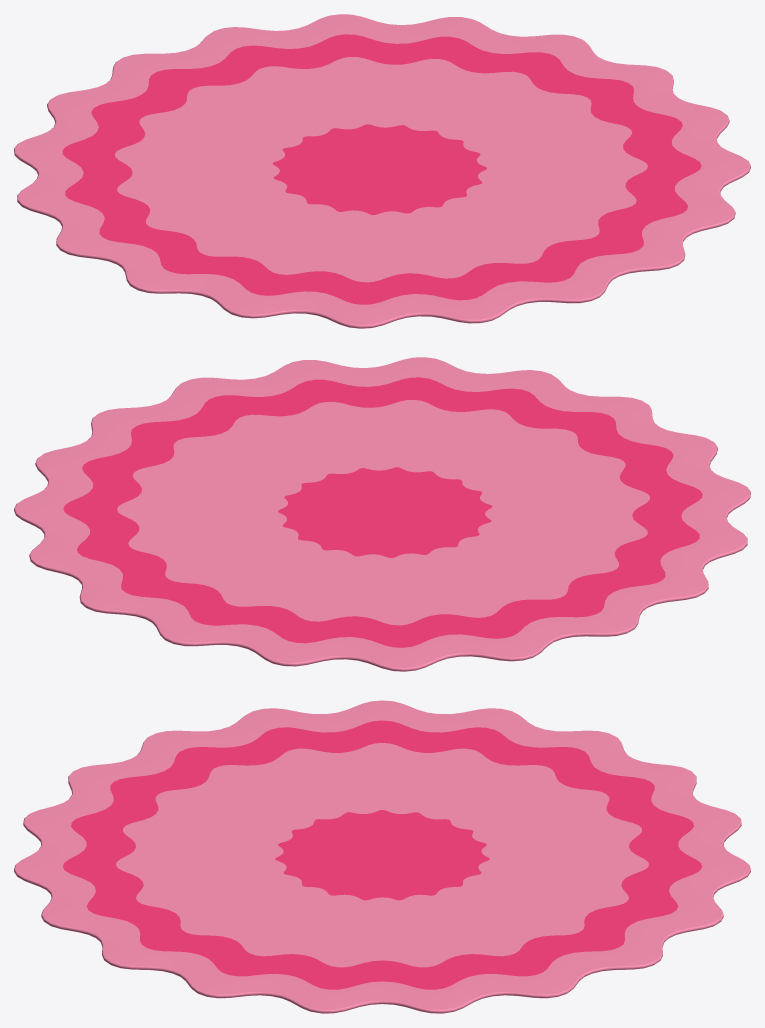
File: City_16_Carpet_1.glb
The picture shows the model from 3 angles, top to bottom: view 1: azimuth 30°, elevation 25°; view 2: azimuth 150°, elevation 25°; view 3: azimuth 270°, elevation 25°; orthographic projection.
Visible parts, largest first — view 1: City_16_Carpet_1; view 2: City_16_Carpet_1; view 3: City_16_Carpet_1.
Part boxes in pixels (x1=…): City_16_Carpet_1: x1=14, y1=14, x2=750, y2=328; City_16_Carpet_1: x1=14, y1=357, x2=750, y2=671; City_16_Carpet_1: x1=14, y1=700, x2=750, y2=1013.
Size of the model in its own units: 3.9 by 0.0223 by 3.92.
1 material, 1 textured.
